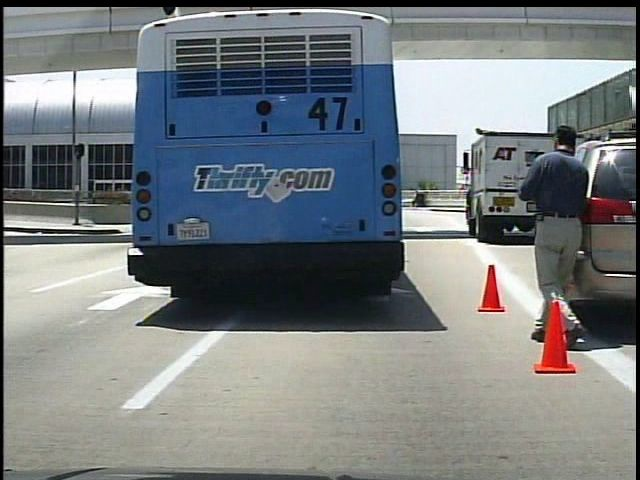person: (520, 117, 599, 350)
